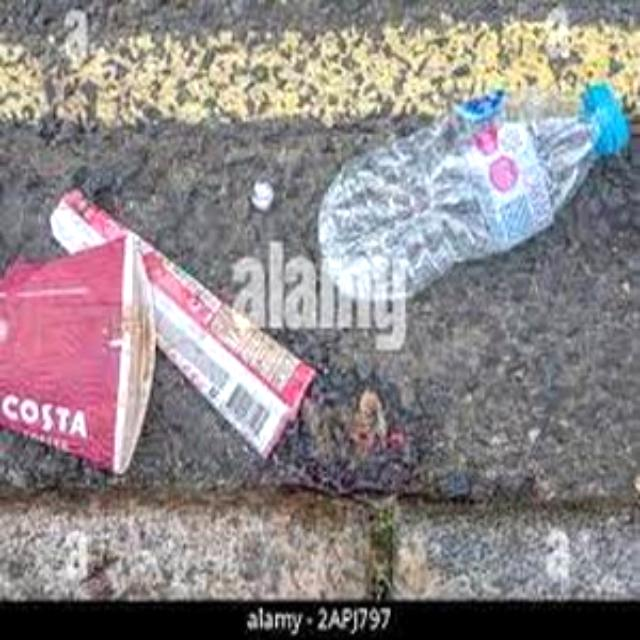Plastic: (316, 84, 630, 302)
